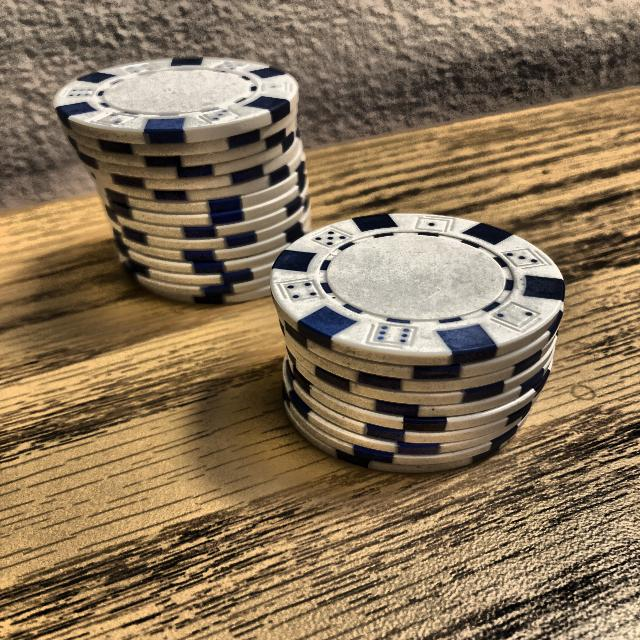Chip: (221, 181, 588, 484), (37, 48, 330, 310)
